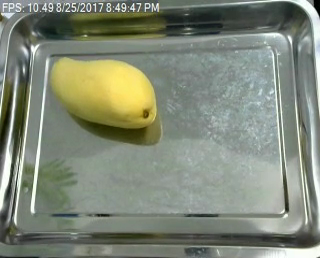Mango: (45, 51, 158, 134)
